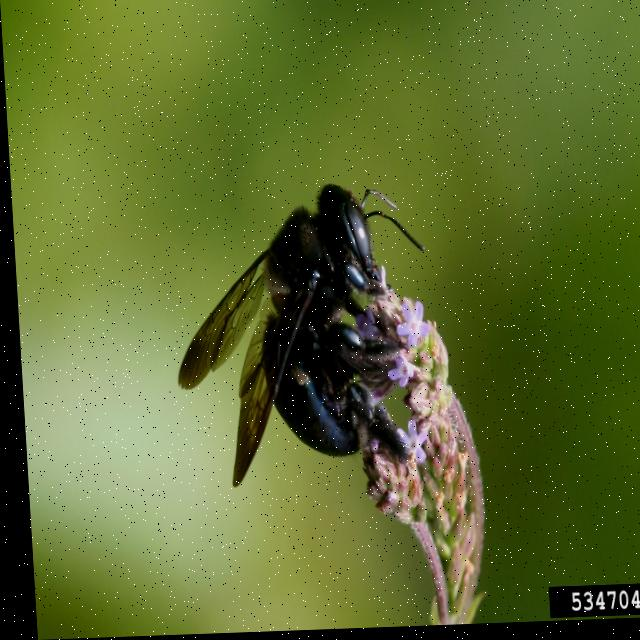Xylocopa: (155, 175, 440, 509)
